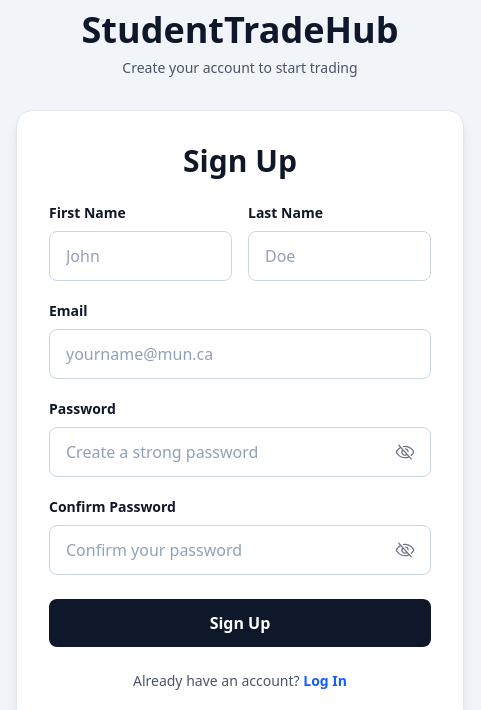
Scenario: SignUp Component › validates password complexity requirements
Type "Password123!" into the password field labelled "Password" at x=240, y=452, box top-left (49, 427), bottom-right (431, 477)
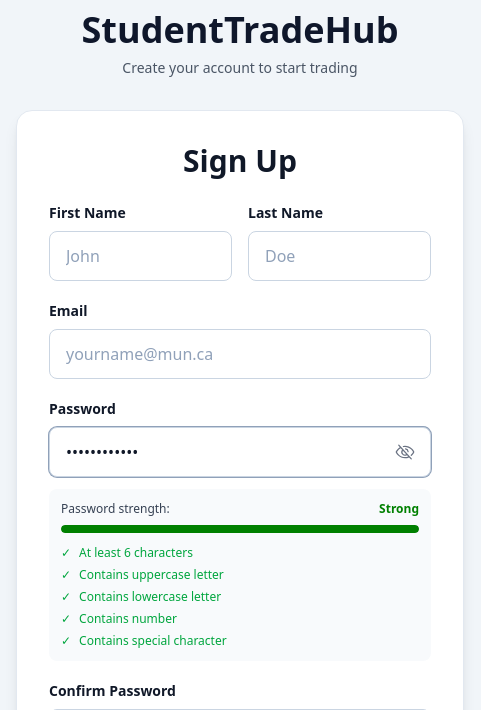
Result: the list item "✓ At least 6 characters" is shown at top-left (61, 544), bottom-right (193, 561)
Result: the list item "✓ Contains uppercase letter" is shown at top-left (61, 566), bottom-right (224, 583)
Result: the list item "✓ Contains lowercase letter" is shown at top-left (61, 588), bottom-right (221, 605)
